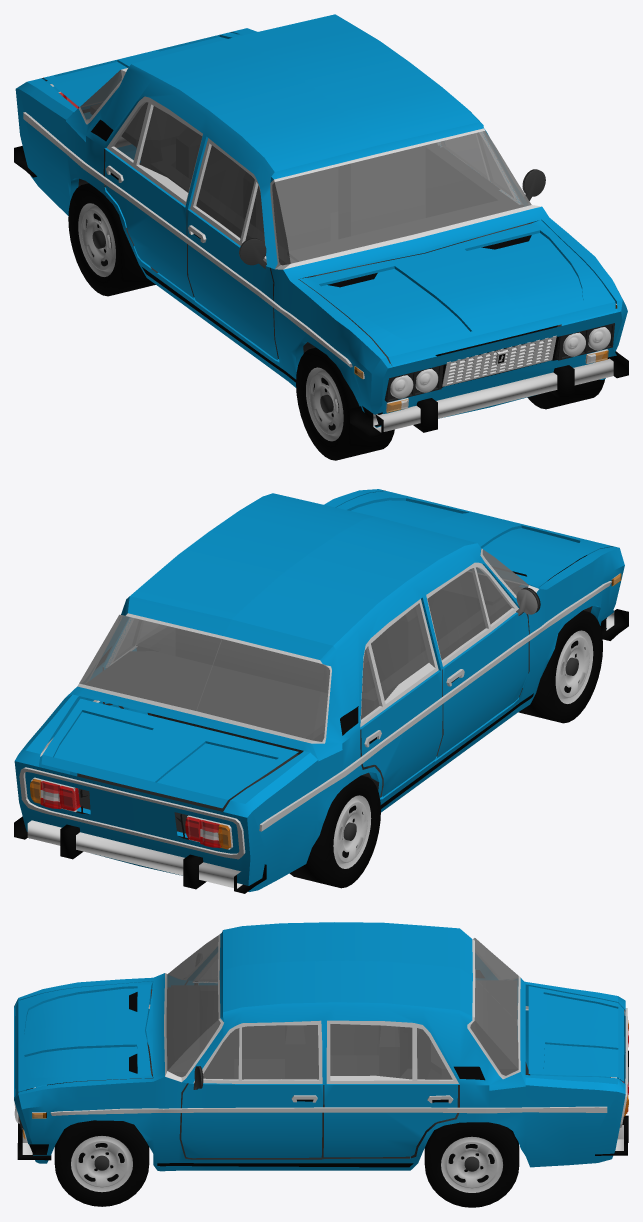
The model's file is ваз 2106 2222.fbx.
The picture shows the model from 3 angles, top to bottom: view 1: azimuth 30°, elevation 25°; view 2: azimuth 150°, elevation 25°; view 3: azimuth 270°, elevation 25°; orthographic projection. The views are drawn at different scales.
Parts seen in each view (by area): view 1: Плоскость.001, Куб.019, Куб.021, Куб.007, Цилиндр.003, Цилиндр.002, Куб.022, Куб.023, Куб.020, Куб.004, Цилиндр.001, Цилиндр.005 (+1 smaller); view 2: Плоскость.001, Куб.019, Цилиндр.003, Цилиндр.002, Куб.017, Куб.023, Куб.020, Куб.022, Куб.007; view 3: Плоскость.001, Куб.019, Цилиндр, Цилиндр.001, Куб.020, Куб.023, Куб.021, Куб.022, Куб.007, Куб.017.
Part boxes in pixels (x1,y1,x2,y2): Плоскость.001: (15,14,627,427); Куб.019: (90,102,533,358); Куб.021: (338,146,425,238); Куб.007: (350,351,628,437); Цилиндр.003: (68,183,155,296); Цилиндр.002: (296,347,394,460); Куб.022: (243,169,330,250); Куб.023: (176,127,337,240); Куб.020: (287,200,527,327); Куб.004: (442,335,556,386); Цилиндр.001: (527,379,604,409); Цилиндр.005: (239,238,266,268); Плоскость.001: (14,489,624,891); Куб.019: (85,594,516,797); Цилиндр.003: (289,775,380,888); Цилиндр.002: (518,610,602,723); Куб.017: (14,816,266,893); Куб.023: (176,628,373,692); Куб.020: (421,572,520,652); Куб.022: (371,607,420,686); Куб.007: (600,609,628,640); Плоскость.001: (14,922,627,1171); Куб.019: (171,980,516,1159); Цилиндр: (424,1122,519,1207); Цилиндр.001: (54,1120,149,1206); Куб.020: (151,986,206,1159); Куб.023: (330,1025,399,1077); Куб.021: (285,1025,305,1077); Куб.022: (234,1059,284,1077); Куб.007: (17,1087,51,1160); Куб.017: (595,1050,628,1155).
Size of what is drawn, in the model's own units: 98.54 by 73.25 by 209.
